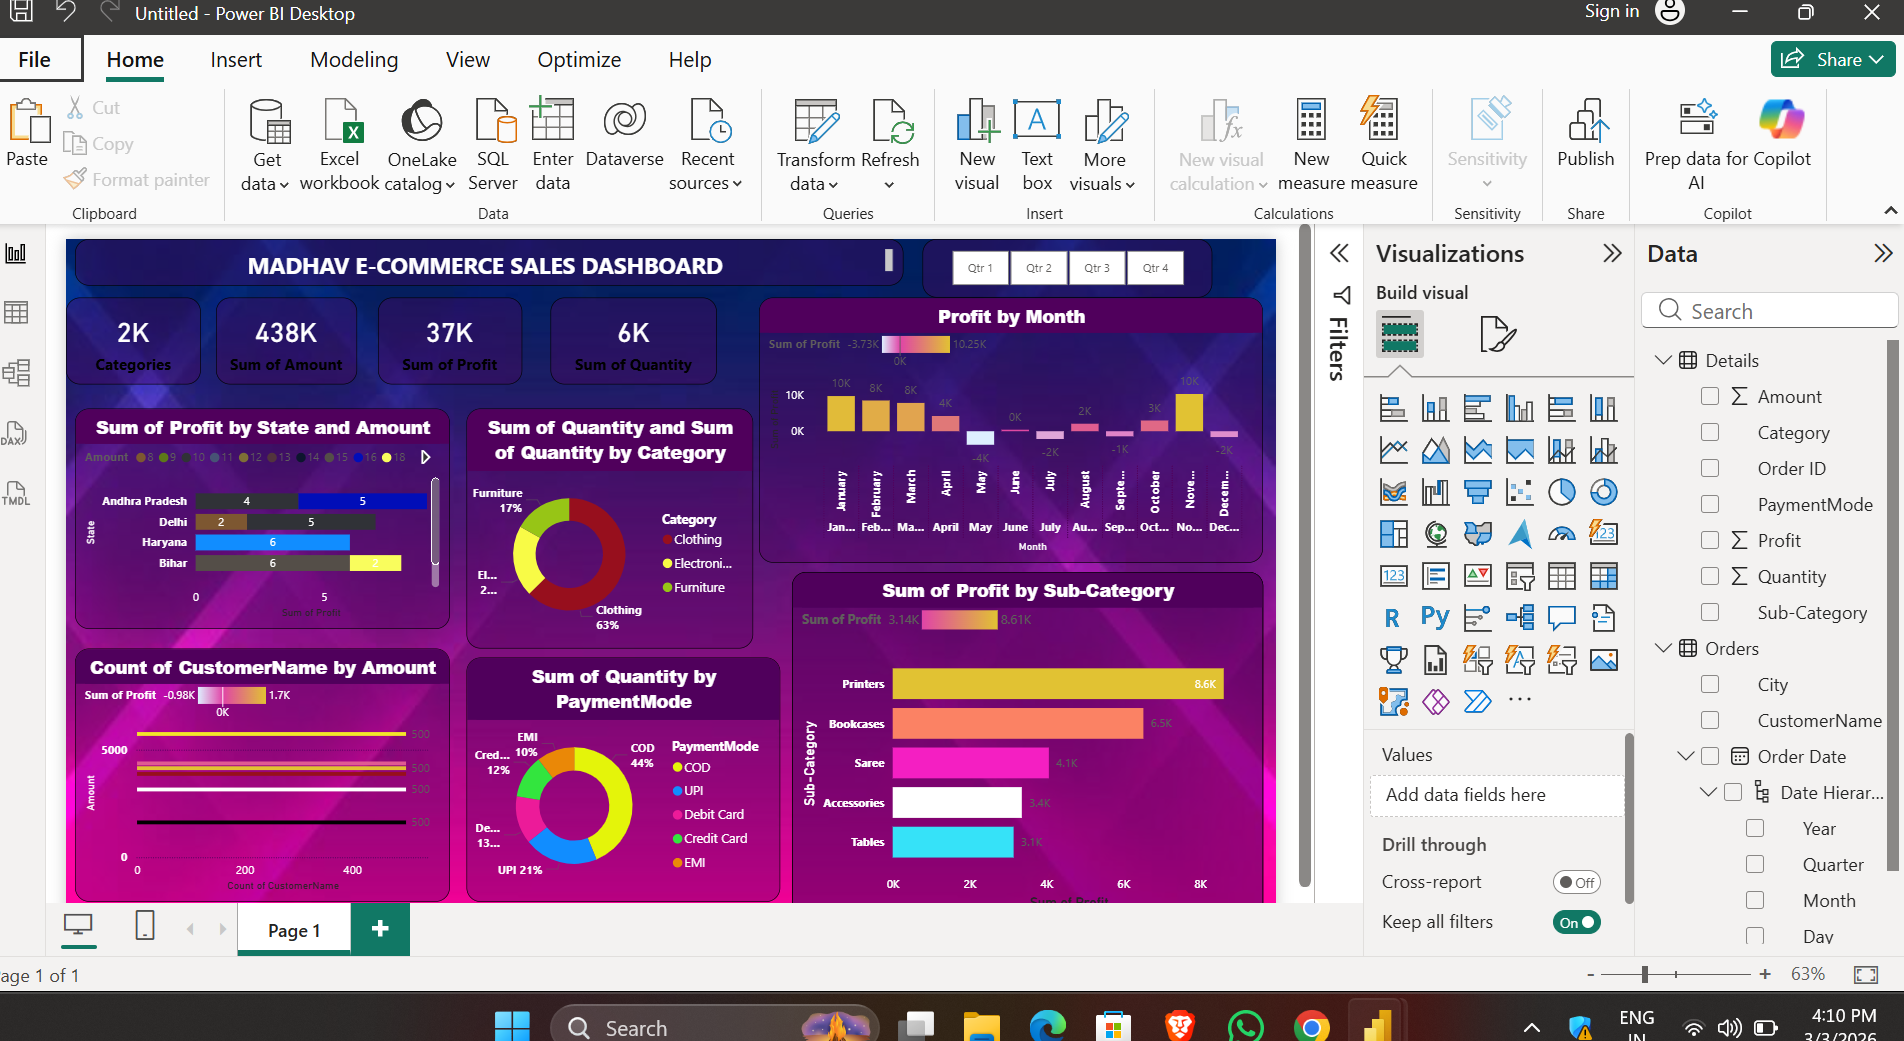

Layout of this report page (visuals, bound fields, positions):
{"tool":"powerbi","page":{"name":"Page 1","canvas":[1280,720],"ordinal":0},"visuals":[{"type":"textbox","box":[9.4,0,876.9,49.1],"z":0},{"type":"columnChart","title":"Profit by Month","fields":{"Y":["Sum(Details.Profit)"],"Category":["Orders.Order Date.Variation.Date Hierarchy.Month","Orders.Order Date","Orders.Order Date.Variation.Date Hierarchy.Month"]},"box":[733.3,61.9,533.3,281],"z":1000},{"type":"barChart","fields":{"Category":["Details.Sub-Category"],"Y":["Sum(Details.Profit)"]},"box":[768.3,352.4,498.4,368.3],"z":2000},{"type":"donutChart","fields":{"Category":["Details.Category"],"Y":["Sum(Details.Quantity)","Sum(Details.Quantity)"]},"box":[423.8,179.4,303.2,254],"z":3000},{"type":"donutChart","fields":{"Y":["Sum(Details.Quantity)"],"Category":["Details.PaymentMode"]},"box":[423.8,442.9,331.7,258.7],"z":4000},{"type":"card","fields":{"Values":["Sum(Details.Amount)"]},"box":[158.7,61.9,149.2,92.1],"z":5000},{"type":"card","fields":{"Values":["CountNonNull(Details.Category)"]},"box":[0,61.9,142.9,92.1],"z":6000},{"type":"card","fields":{"Values":["Sum(Details.Profit)"]},"box":[330.2,61.9,152.4,92.1],"z":7000},{"type":"card","fields":{"Values":["Sum(Details.Quantity)"]},"box":[512.7,61.9,176.2,92.1],"z":8000},{"type":"barChart","fields":{"Category":["Details.Sub-Category"],"Y":["Sum(Details.Profit)"]},"box":[768.3,351.7,498.4,368.3],"z":9000},{"type":"barChart","fields":{"Category":["Orders.State","Details.Sub-Category"],"Y":["Sum(Details.Profit)"],"Series":["Details.Amount"]},"box":[9.5,179.4,396.8,233.3],"z":10000},{"type":"barChart","fields":{"Y":["CountNonNull(Orders.CustomerName)"],"Category":["Details.Amount"]},"box":[9.5,433.3,396.8,268.3],"z":11000},{"type":"slicer","fields":{"Values":["Orders.Order Date.Variation.Date Hierarchy.Quarter"]},"box":[906.3,0,306.3,61.9],"z":12000}]}

Visuals, with their boxes on the page's 1280x720 design canvas (x1, y1, x2, y2). These are canvas units, not pixel positions in the 1904x1041 screenshot, which may show the page scaled, cropped or inside an application window:
textbox: (x1=9, y1=0, x2=886, y2=49)
"Profit by Month" columnChart: (x1=733, y1=62, x2=1267, y2=343)
barChart - Details.Sub-Category x Sum(Details.Profit): (x1=768, y1=352, x2=1267, y2=721)
donutChart - Details.Category x Sum(Details.Quantity): (x1=424, y1=179, x2=727, y2=433)
donutChart - Sum(Details.Quantity) x Details.PaymentMode: (x1=424, y1=443, x2=756, y2=702)
card - Sum(Details.Amount): (x1=159, y1=62, x2=308, y2=154)
card - CountNonNull(Details.Category): (x1=0, y1=62, x2=143, y2=154)
card - Sum(Details.Profit): (x1=330, y1=62, x2=483, y2=154)
card - Sum(Details.Quantity): (x1=513, y1=62, x2=689, y2=154)
barChart - Details.Sub-Category x Sum(Details.Profit): (x1=768, y1=352, x2=1267, y2=720)
barChart - Orders.State x Details.Sub-Category: (x1=10, y1=179, x2=406, y2=413)
barChart - CountNonNull(Orders.CustomerName) x Details.Amount: (x1=10, y1=433, x2=406, y2=702)
slicer - Orders.Order Date.Variation.Date Hierarchy.Quarter: (x1=906, y1=0, x2=1213, y2=62)
